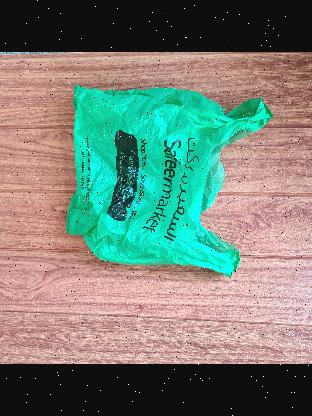Others: (64, 84, 270, 274)
